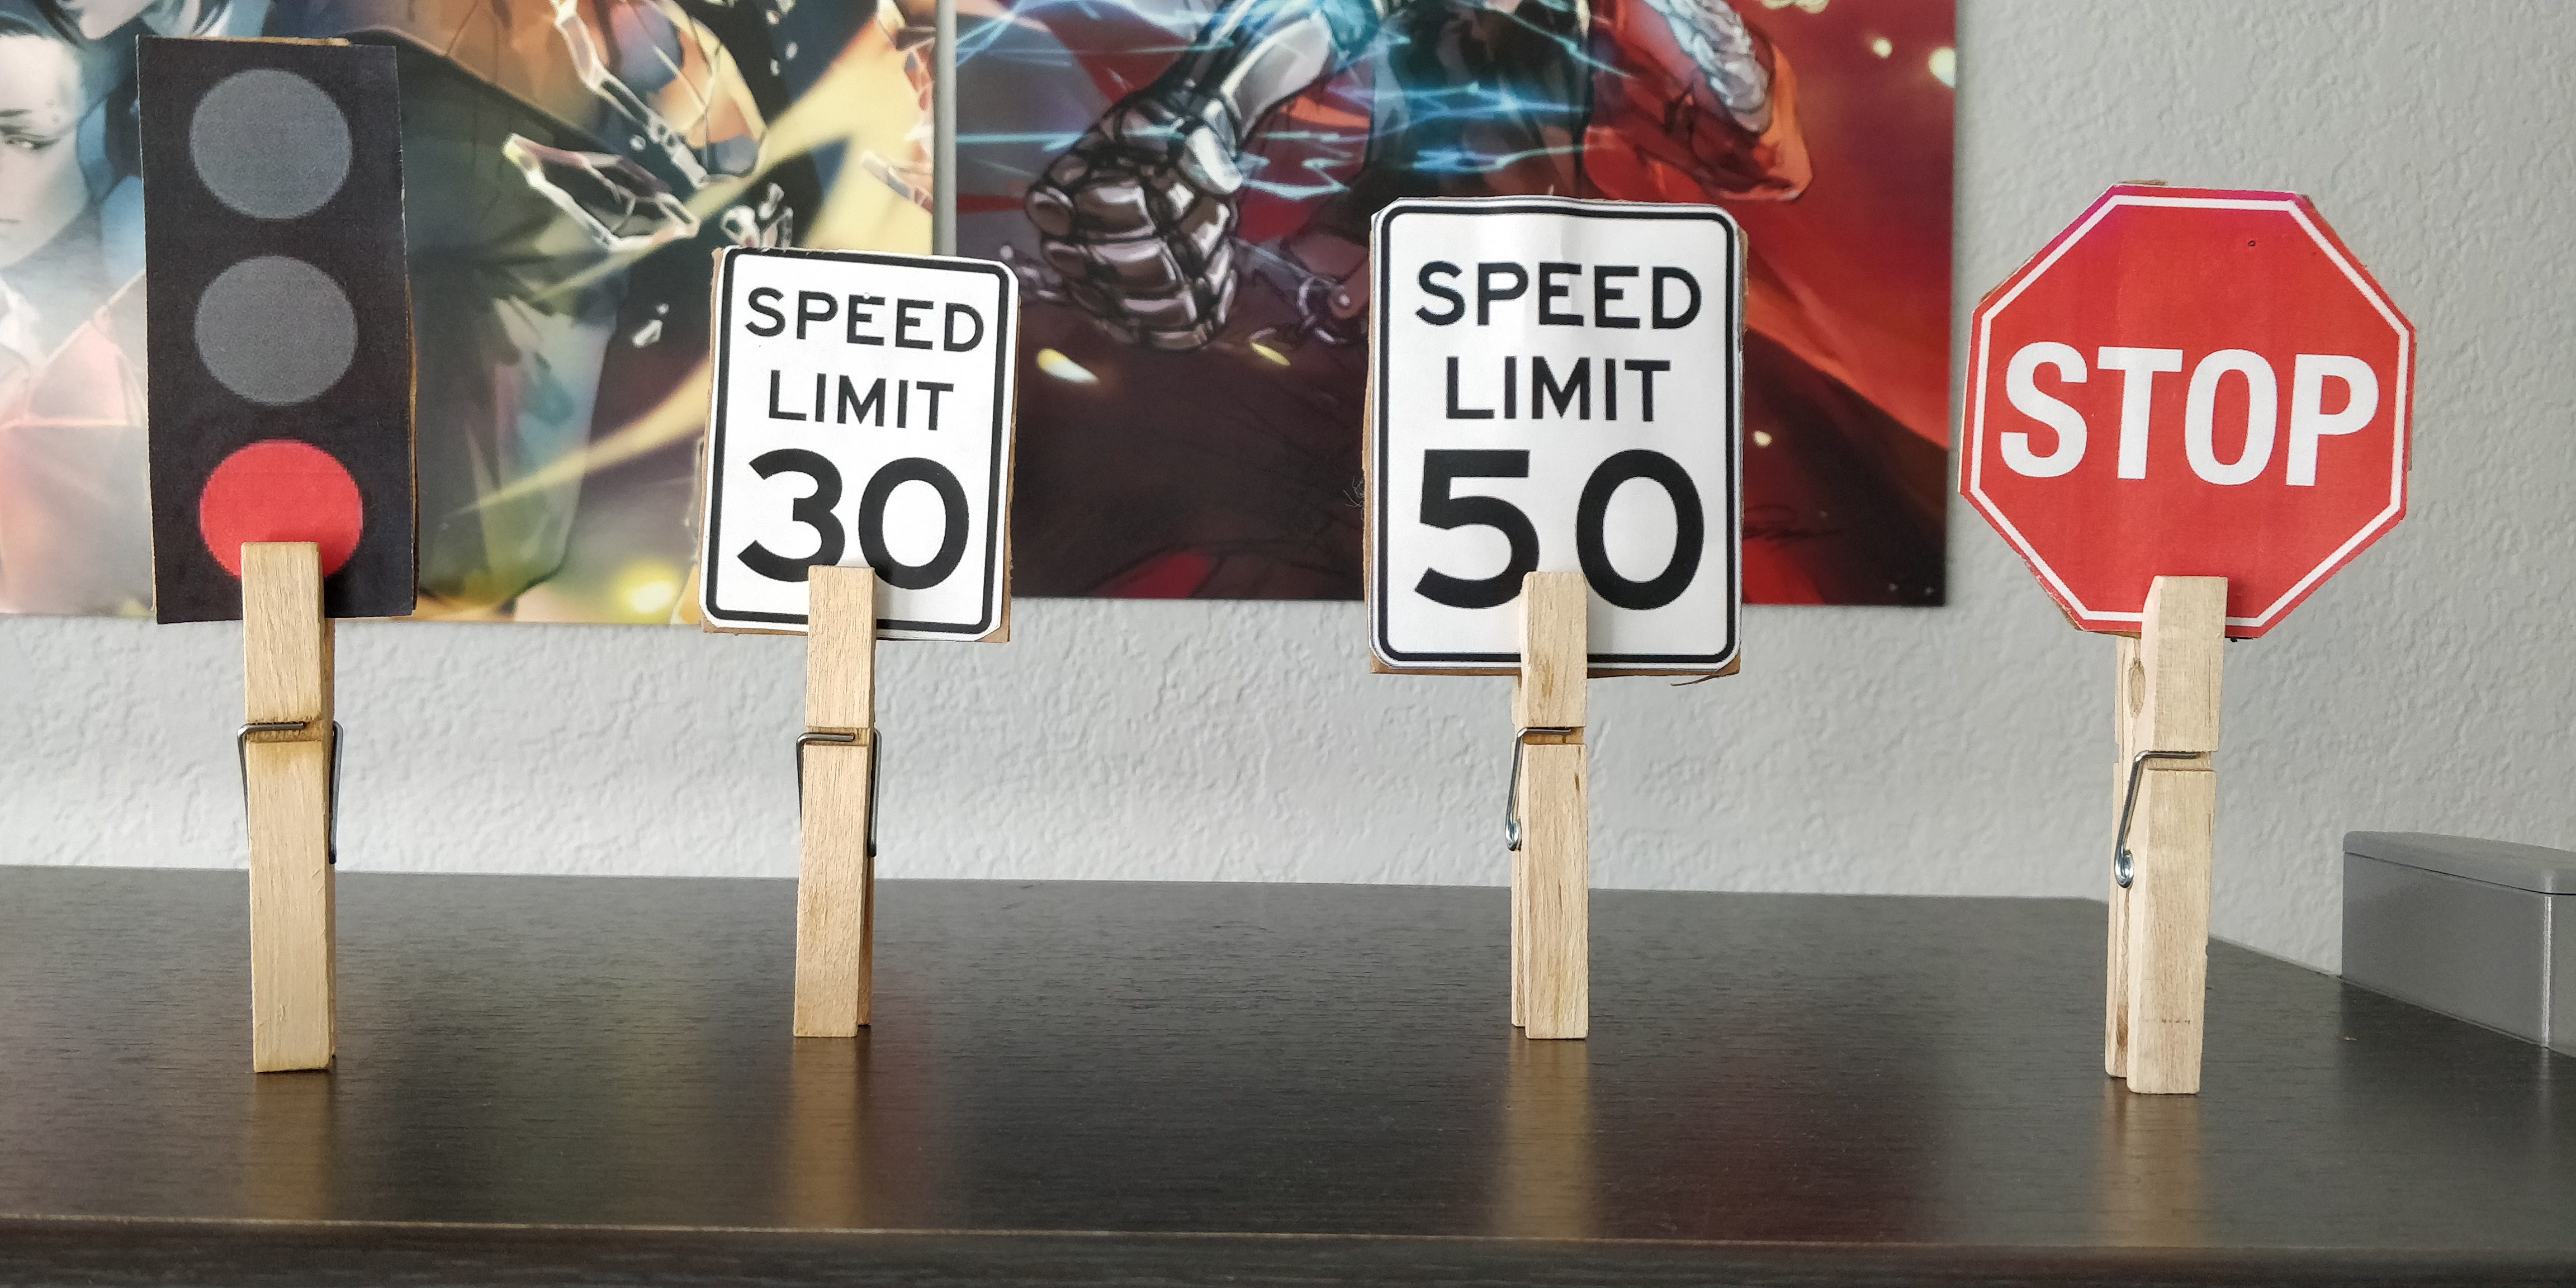Speed Limit 30: (715, 243, 1019, 639)
Speed Limit 50: (1368, 197, 1748, 683)
Stop Sign: (1963, 187, 2415, 636)
red light: (131, 34, 421, 619)
